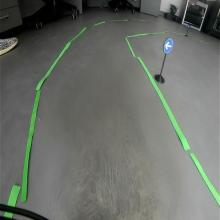left: (163, 38, 174, 54)
